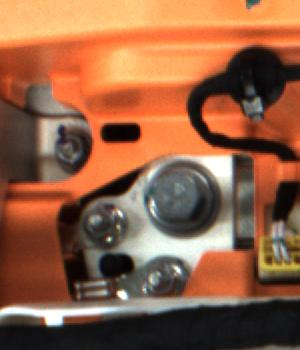nut_b: (144, 155, 224, 242)
